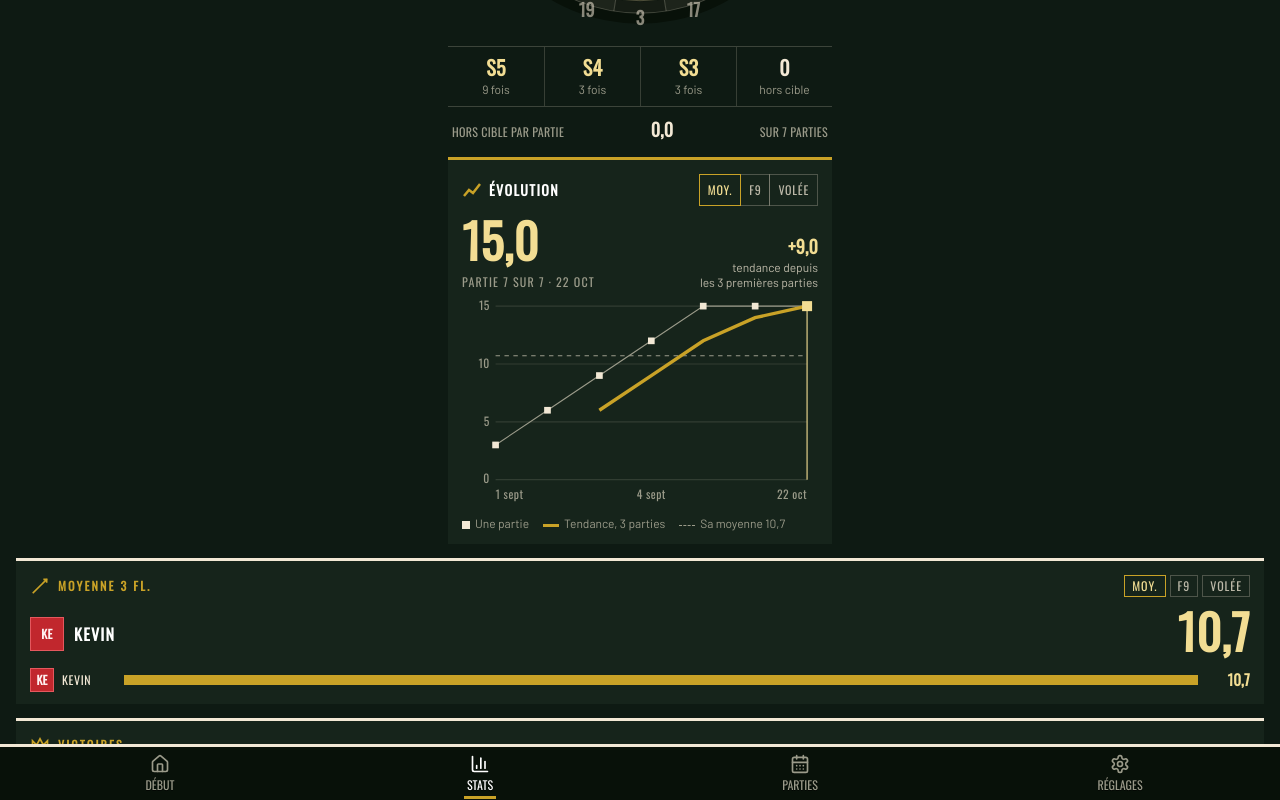
Test: Évolution — remises à zéro › changer de période remet la dernière partie
(page scrolled)
Press the mouse on the element showing "1 sept 4 sept 22 oct" at (654, 401), box [490,295,818,506]
(page scrolled)
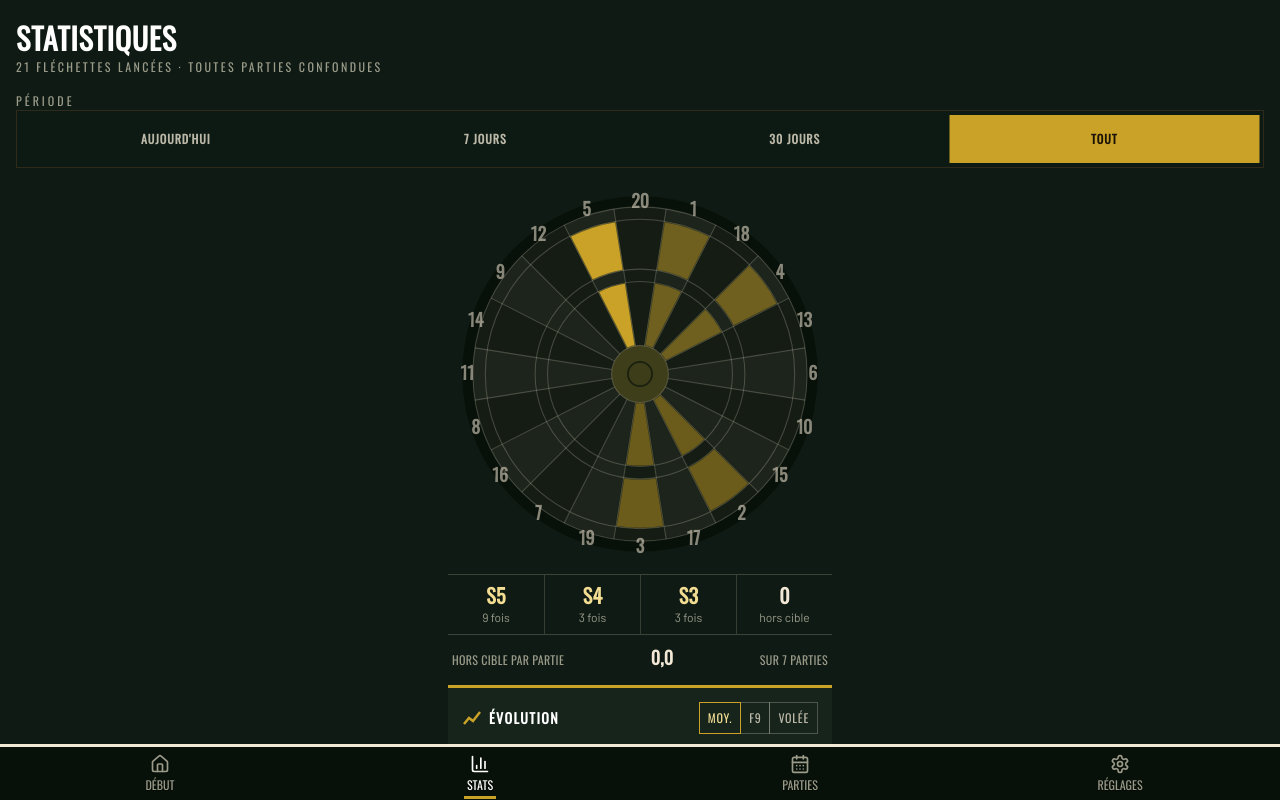
Click the button "30 jours" at (795, 139), box [640,115,950,163]
(page scrolled)
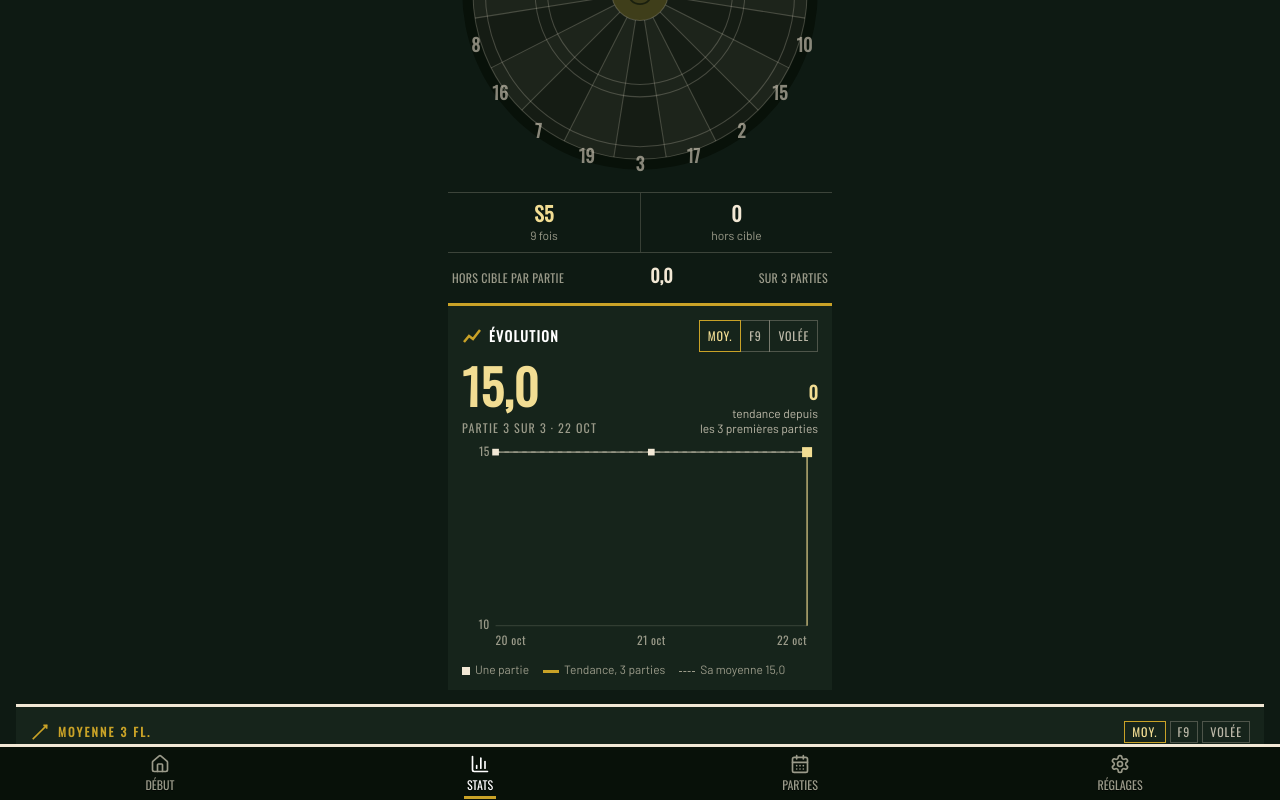
Expected: the element that starts with "Partie 3 sur 3 · 22 oct" is shown, [462,419,597,436]
